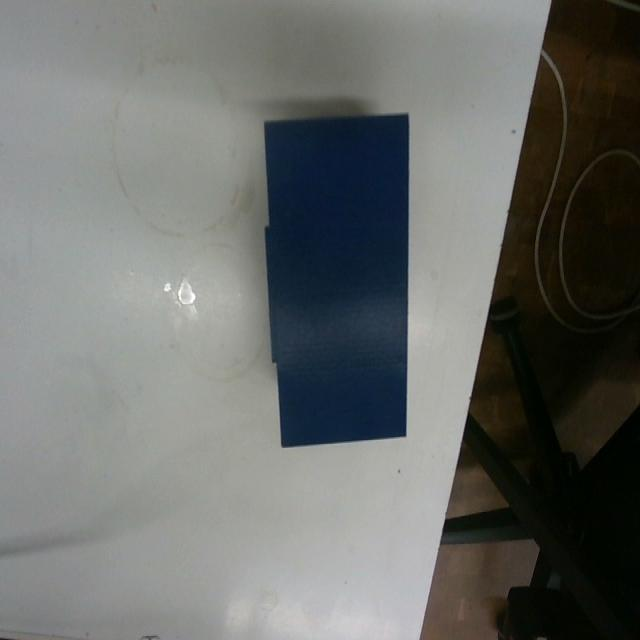Blue Cuboid: (260, 110, 411, 450)
